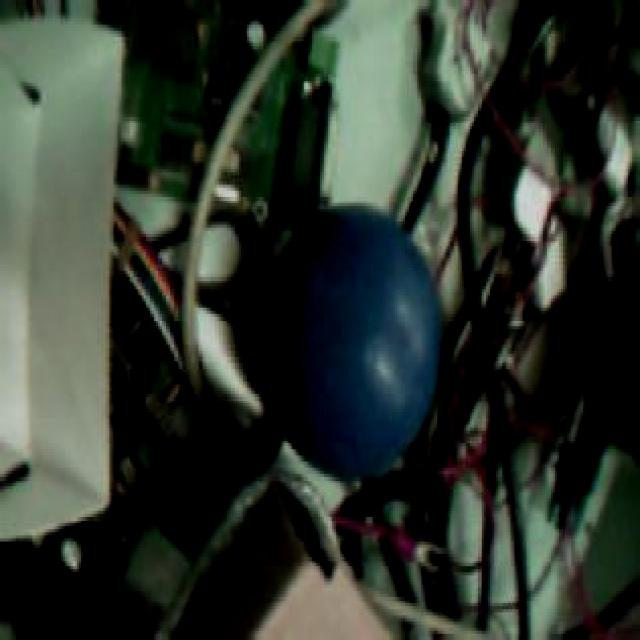BallPurple: (265, 205, 440, 478)
